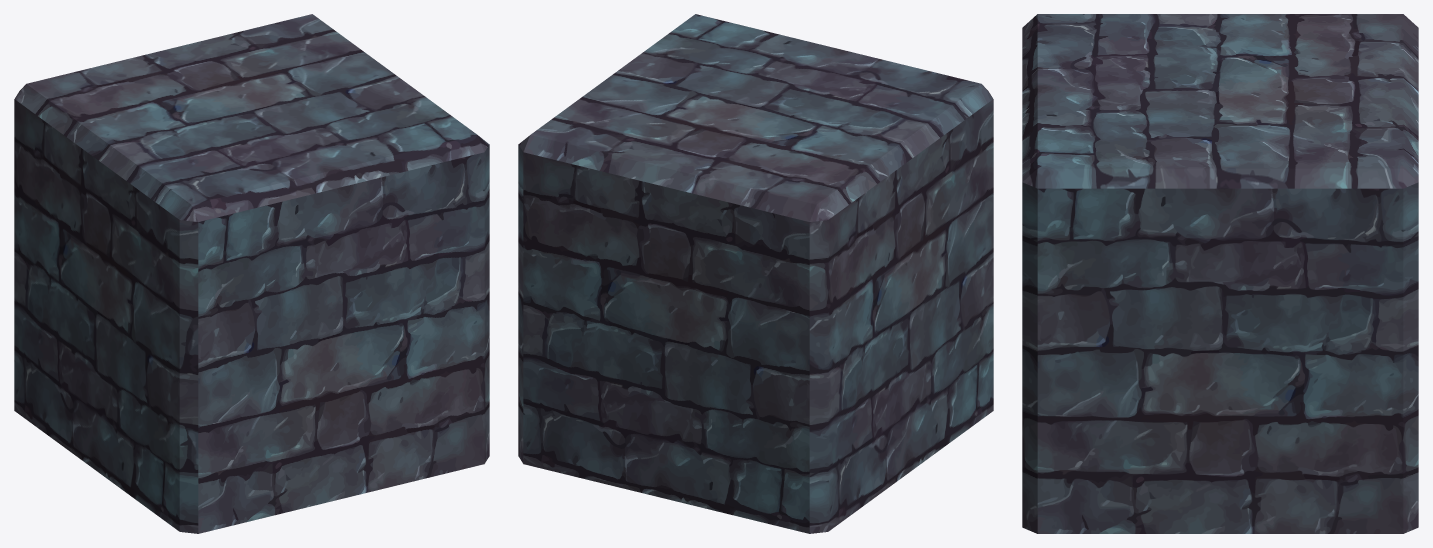
File: rock_to_break.glb
3 renders of one model, left to right at view 1: azimuth 30°, elevation 25°; view 2: azimuth 150°, elevation 25°; view 3: azimuth 270°, elevation 25°, orthographic. The views are drawn at different scales.
Visible parts, largest first — view 1: Rock_breakable; view 2: Rock_breakable; view 3: Rock_breakable.
Part boxes in pixels (x1,y1,x2,y2): Rock_breakable: (14, 14, 489, 533); Rock_breakable: (518, 14, 993, 533); Rock_breakable: (1022, 14, 1418, 533).
Size of the model in its own units: 2 by 2 by 2.
1 material, 1 textured.
